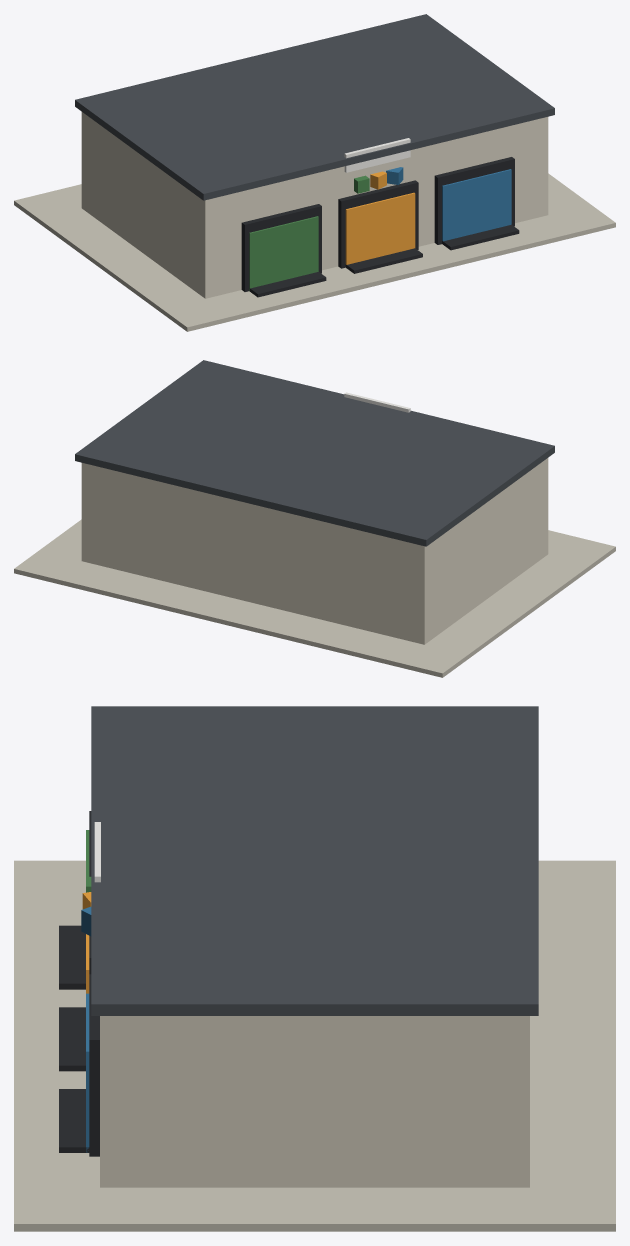
Rendered from building.waste-recycling.glb.
The picture shows the model from 3 angles, top to bottom: view 1: azimuth 30°, elevation 25°; view 2: azimuth 150°, elevation 25°; view 3: azimuth 270°, elevation 25°; orthographic projection. The views are drawn at different scales.
Parts seen in each view (by area): view 1: building.waste-recycling; view 2: building.waste-recycling; view 3: building.waste-recycling.
Part boxes in pixels (x1,y1,x2,y2): building.waste-recycling: (14, 14, 615, 331); building.waste-recycling: (14, 360, 615, 677); building.waste-recycling: (14, 706, 615, 1231).
Bounding box in the file's own units: 20 × 5.15 × 14.
